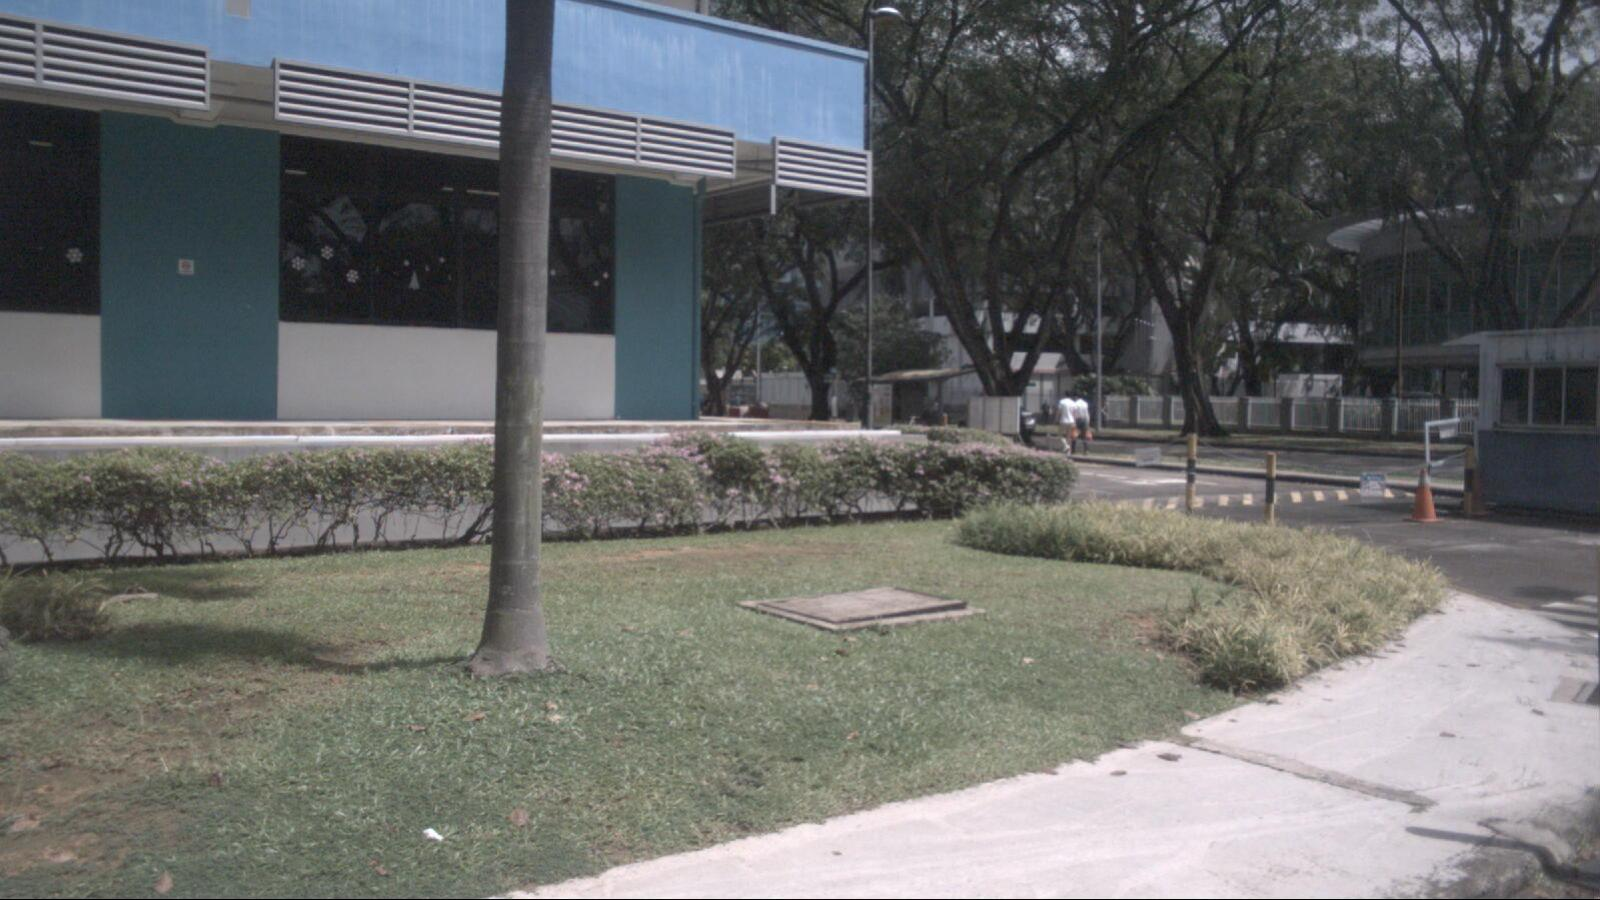human.pedestrian.adult-pedestrian.moving: (1053, 390, 1076, 457), (1072, 391, 1092, 456), (1040, 400, 1049, 424)
